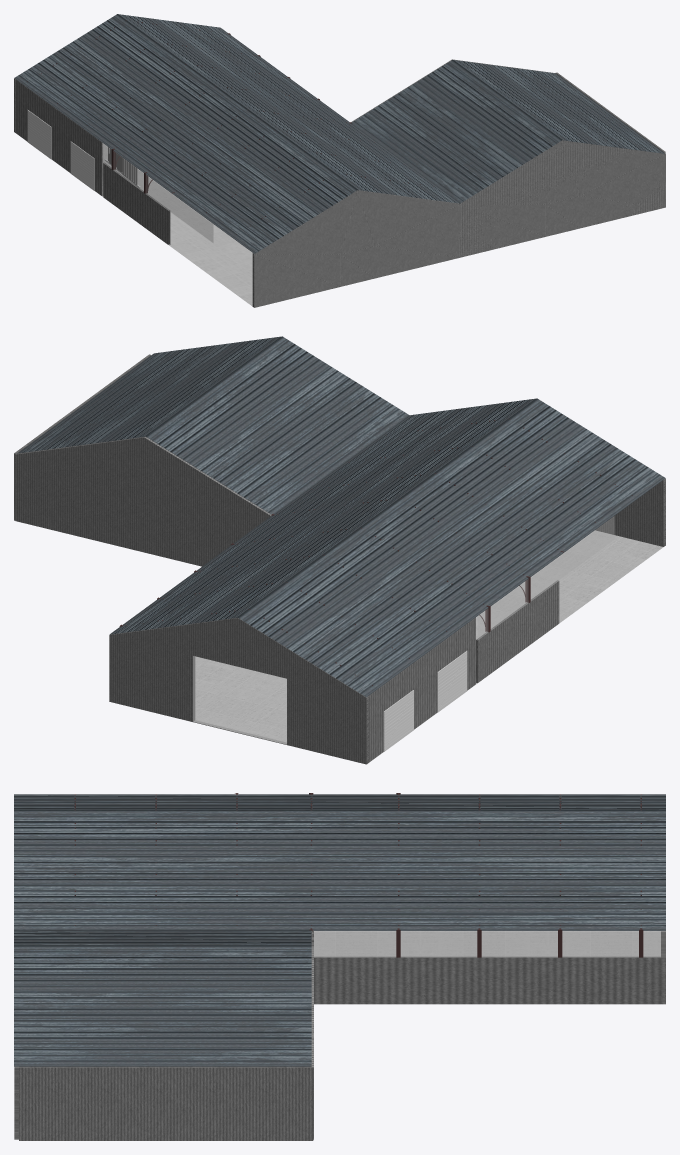
File: lineal_cuarto_2.fbx
The picture shows the model from 3 angles, top to bottom: view 1: azimuth 30°, elevation 25°; view 2: azimuth 150°, elevation 25°; view 3: azimuth 270°, elevation 25°; orthographic projection. The views are drawn at different scales.
Visible parts, largest first — view 1: pPlane2, pPlane4, polySurface26, pPlane1, polySurface16, polySurface12, polySurface17, polySurface25, polySurface2, polySurface4, pCube17, pCube16 (+1 smaller); view 2: pPlane2, pPlane4, pPlane1, polySurface18, polySurface15, polySurface12, polySurface25, polySurface2, polySurface4, polySurface26, pCube16, pCube17 (+1 smaller); view 3: pPlane1, pPlane4, polySurface19, polySurface3, pPlane2, polySurface5, polySurface12, polySurface9.
Part boxes in pixels (x1=…): pPlane2: x1=14, y1=14, x2=357, y2=253; pPlane4: x1=351, y1=60, x2=665, y2=203; polySurface26: x1=252, y1=190, x2=460, y2=307; pPlane1: x1=118, y1=14, x2=459, y2=203; polySurface16: x1=459, y1=141, x2=665, y2=257; polySurface12: x1=16, y1=133, x2=252, y2=306; polySurface17: x1=459, y1=140, x2=665, y2=256; polySurface25: x1=16, y1=79, x2=103, y2=195; polySurface2: x1=103, y1=162, x2=170, y2=244; polySurface4: x1=104, y1=144, x2=213, y2=242; pCube17: x1=70, y1=141, x2=94, y2=190; pCube16: x1=27, y1=110, x2=51, y2=159; pPlane2: x1=238, y1=398, x2=665, y2=697; pPlane4: x1=17, y1=336, x2=409, y2=514; pPlane1: x1=109, y1=398, x2=536, y2=634; polySurface18: x1=15, y1=436, x2=271, y2=566; polySurface15: x1=109, y1=617, x2=368, y2=764; polySurface12: x1=195, y1=530, x2=663, y2=762; polySurface25: x1=368, y1=617, x2=475, y2=762; polySurface2: x1=476, y1=580, x2=559, y2=683; polySurface4: x1=477, y1=516, x2=614, y2=639; polySurface26: x1=595, y1=478, x2=665, y2=546; pCube16: x1=383, y1=690, x2=413, y2=751; pCube17: x1=437, y1=651, x2=467, y2=712; pPlane1: x1=14, y1=810, x2=665, y2=930; pPlane4: x1=14, y1=930, x2=311, y2=1066; polySurface19: x1=19, y1=1066, x2=313, y2=1140; polySurface3: x1=314, y1=956, x2=665, y2=1004; pPlane2: x1=14, y1=794, x2=665, y2=809; polySurface5: x1=314, y1=931, x2=665, y2=957; polySurface12: x1=314, y1=931, x2=660, y2=956; polySurface9: x1=74, y1=793, x2=643, y2=957.
Bounding box in the file's own units: 40.04 × 8.59 × 40.32.
12 materials, 5 textured.
